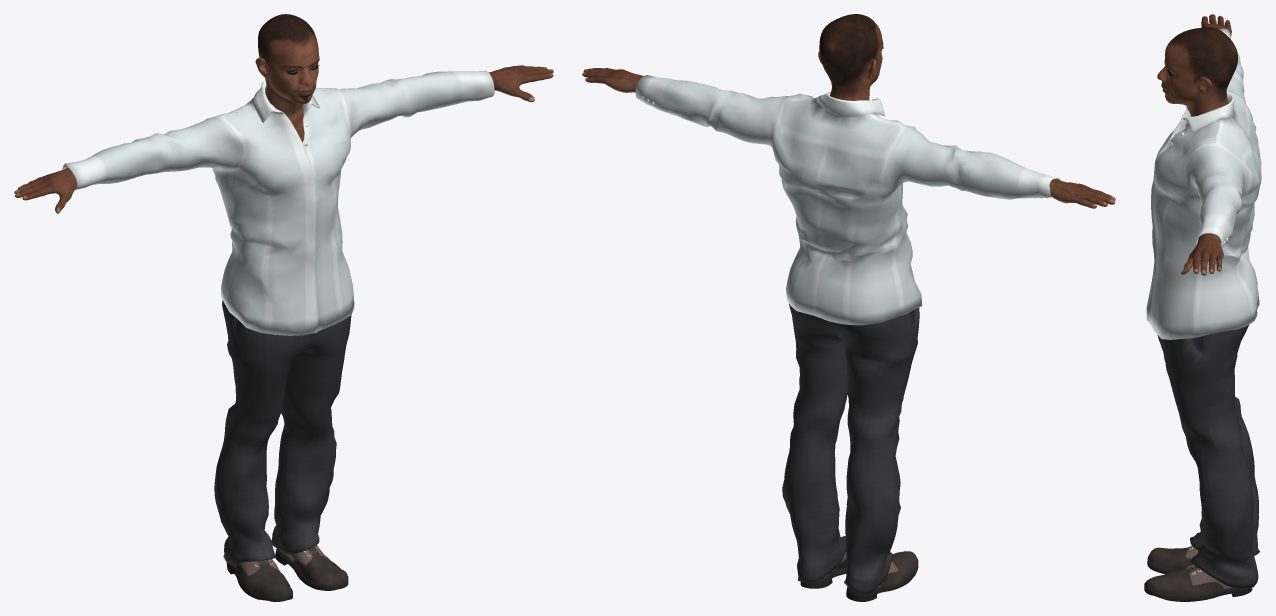
The model's file is Male-Generic-1.obj.
3 views of the same model, side by side, from view 1: azimuth 30°, elevation 25°; view 2: azimuth 150°, elevation 25°; view 3: azimuth 270°, elevation 25° (orthographic).
Visible parts, largest first — view 1: Tops, Bottoms, Body, Shoes; view 2: Tops, Bottoms, Body, Shoes; view 3: Tops, Bottoms, Body, Shoes.
Part boxes in pixels (x1,y1,x2,y2): Tops: [62, 70, 494, 335]; Bottoms: [214, 300, 351, 565]; Body: [14, 14, 553, 213]; Shoes: [226, 545, 348, 601]; Tops: [635, 75, 1060, 325]; Bottoms: [782, 304, 919, 594]; Body: [582, 14, 1115, 208]; Shoes: [800, 536, 918, 601]; Tops: [1146, 28, 1261, 339]; Bottoms: [1157, 325, 1259, 588]; Body: [1157, 14, 1237, 275]; Shoes: [1144, 545, 1252, 601].
Size of the model in its own units: 176 by 176 by 33.88.
1 material, 1 textured.
